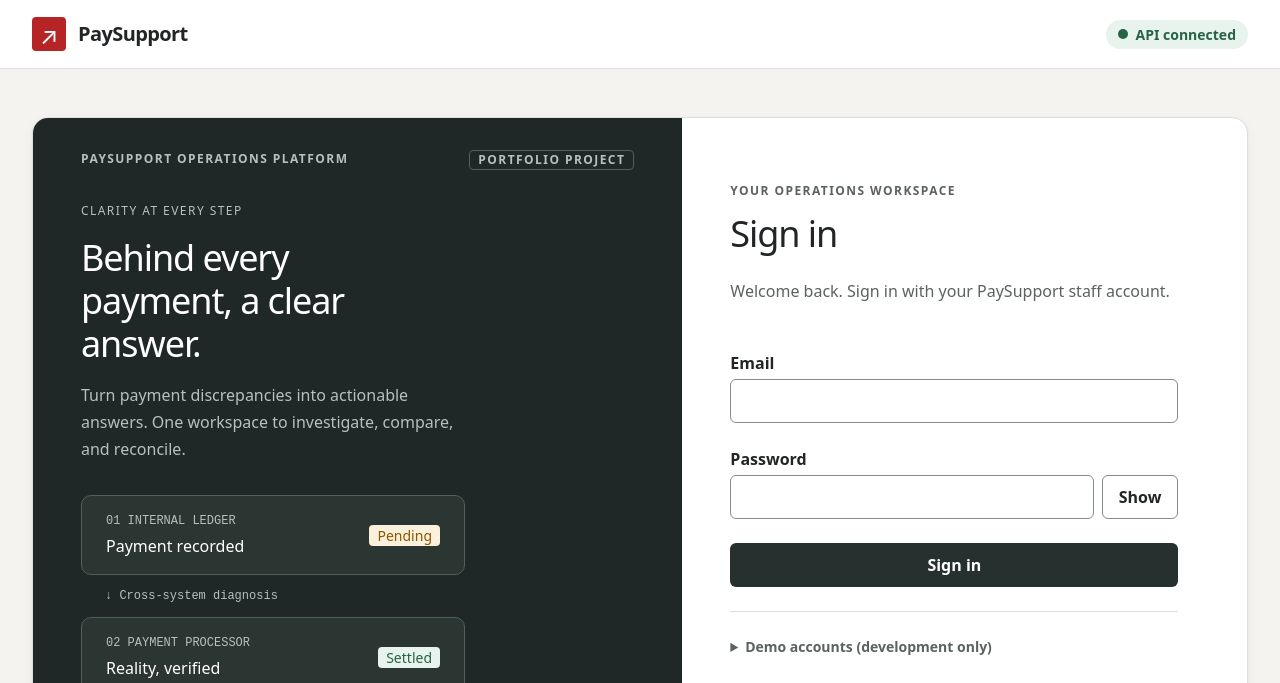
Scenario: workspace › summarises open findings in the metrics strip
Type "engineer@paysupport.test" into the field labelled "Email".
click(954, 401); type("engineer@paysupport.test")  # box [730, 379, 1178, 423]
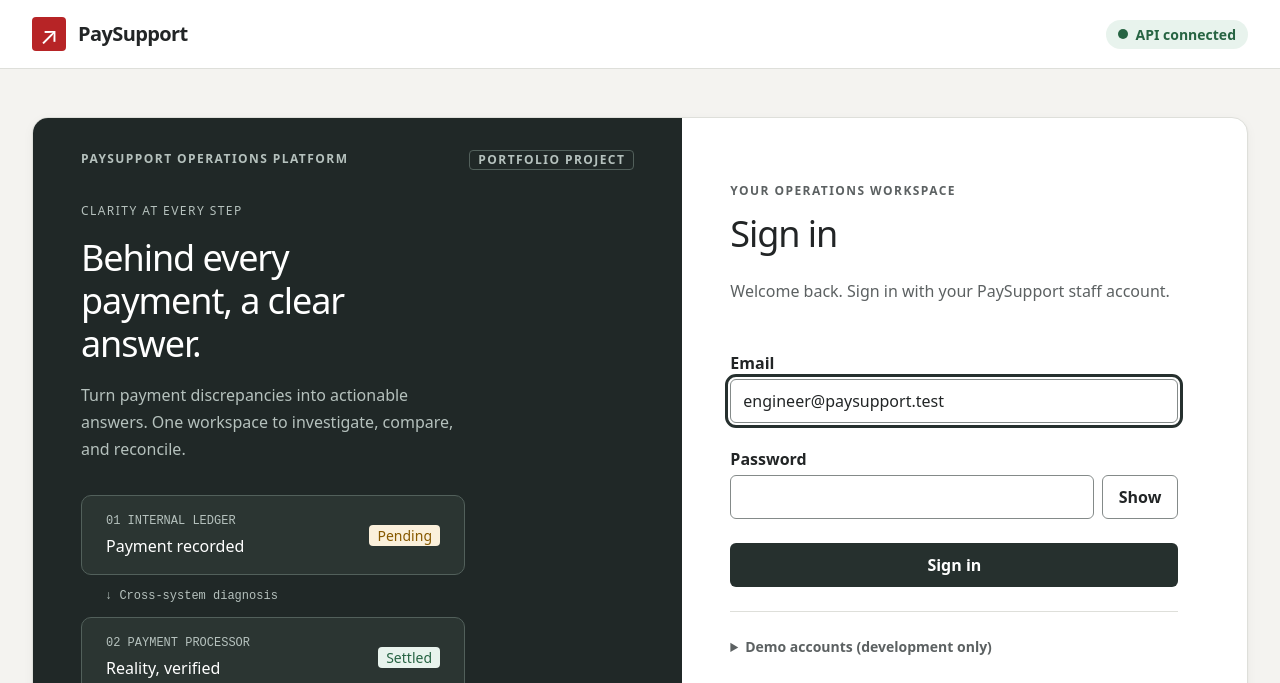
Type "test-password" into the password field labelled "Password".
click(912, 497); type("test-password")  # box [730, 475, 1094, 519]
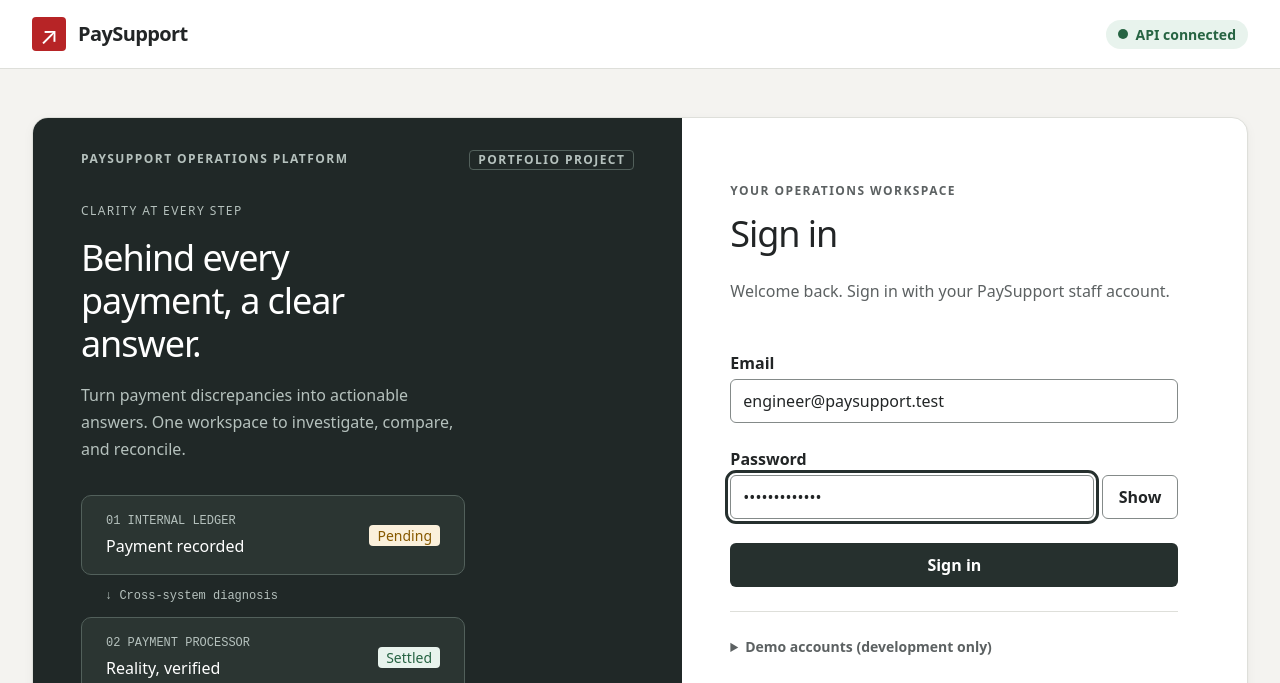
Click the button "Sign in".
click(954, 565)  # box [730, 543, 1178, 587]
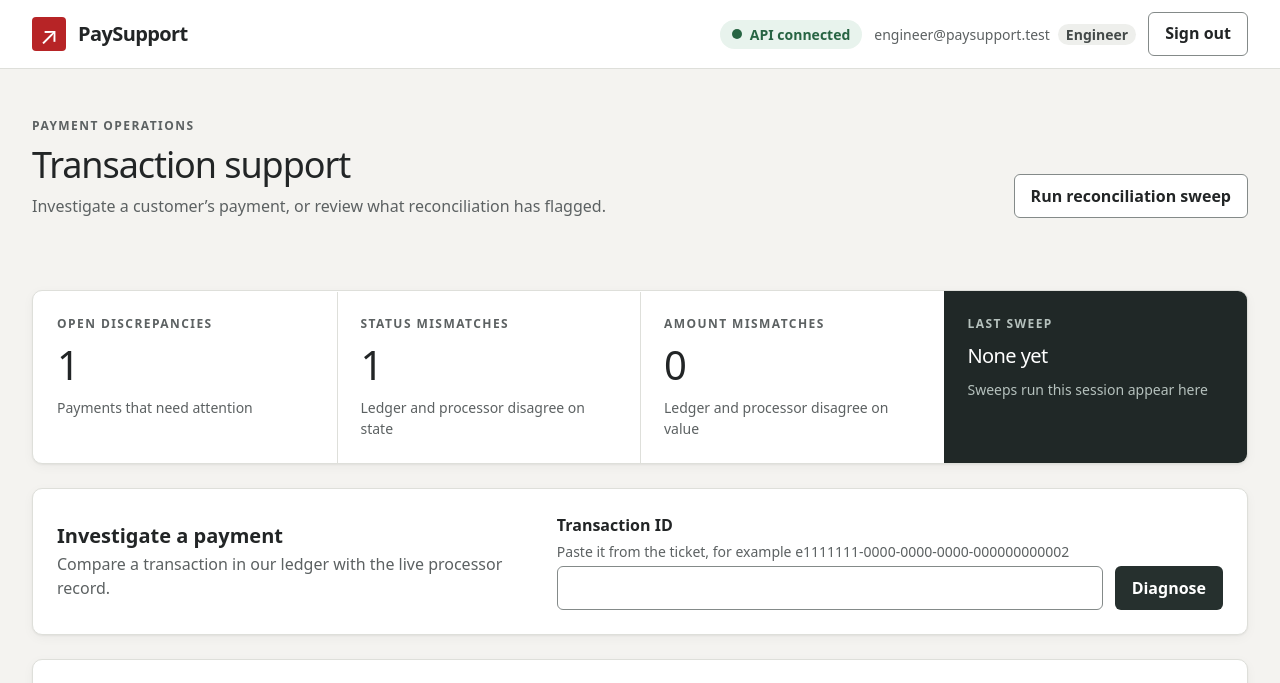
Check: the button "Sign out" is shown, box [1148, 12, 1248, 56]
Check: the heading "Transaction support" is shown, box [32, 140, 350, 189]
Check: the text "1" below "Status mismatches" is shown, box [360, 337, 382, 392]
